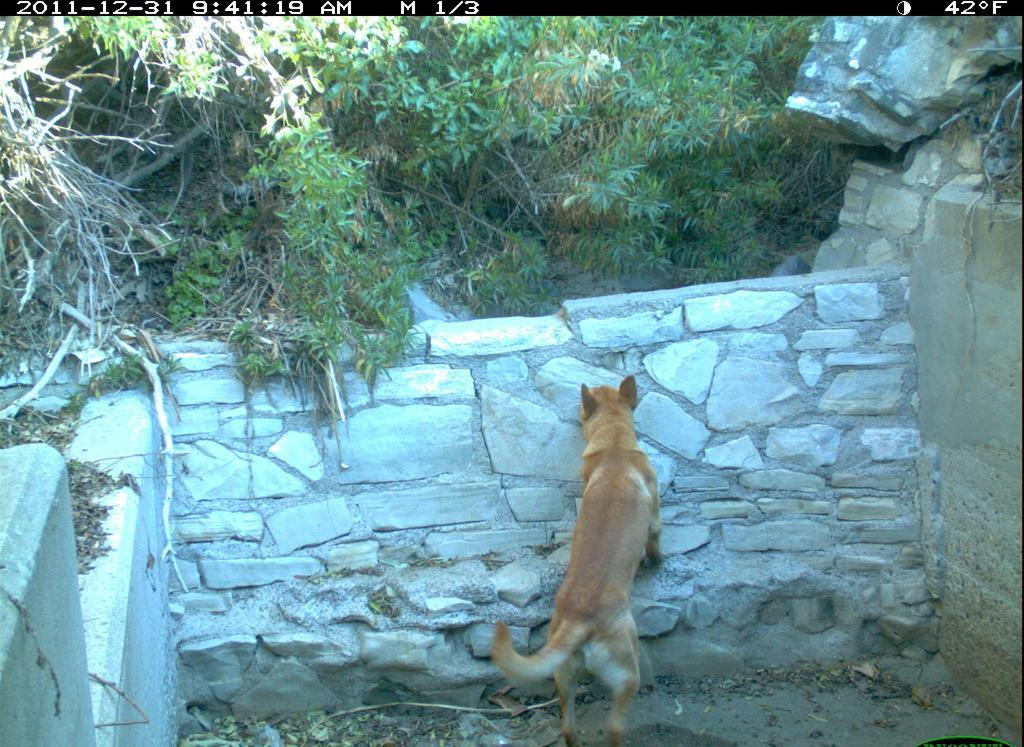dog: (473, 359, 675, 744)
